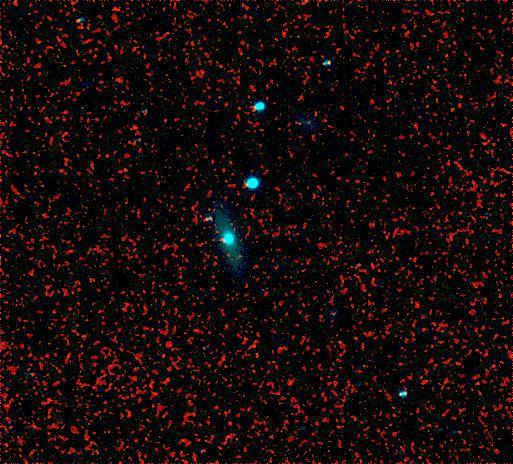star: (280, 108, 310, 138)
